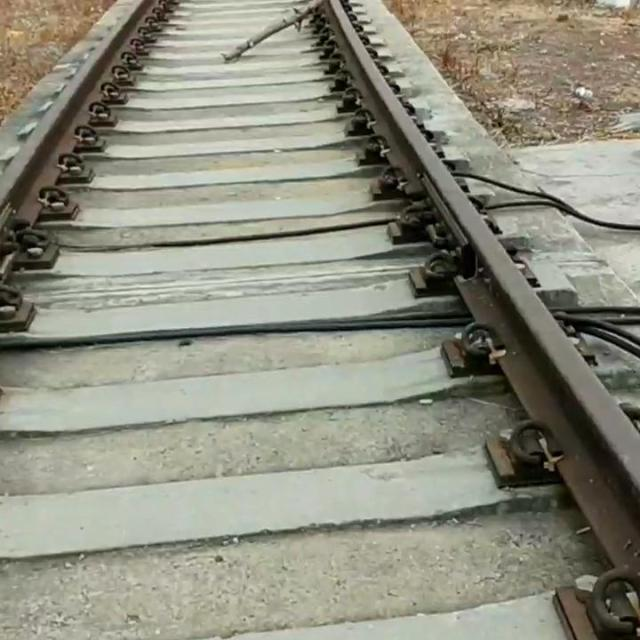rail: (301, 1, 640, 640), (2, 1, 194, 384)
